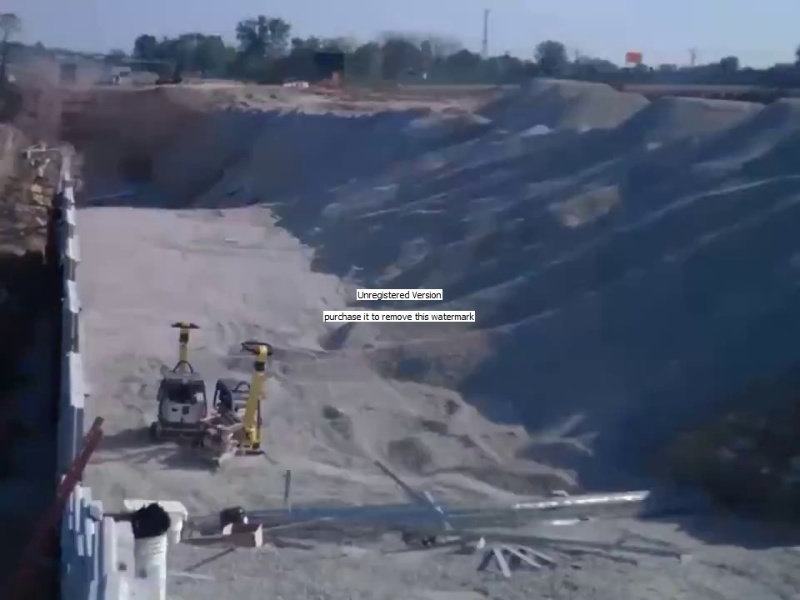wall: (53, 167, 122, 600)
